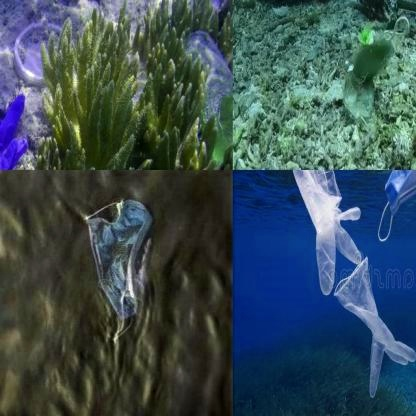Mask: (78, 190, 156, 345), (341, 17, 410, 133), (376, 170, 416, 247)
glove: (336, 255, 416, 405), (297, 170, 361, 302), (0, 80, 30, 169)
